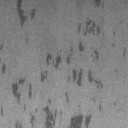red iron: (0, 20, 103, 128), (17, 0, 36, 44), (123, 47, 127, 58), (94, 0, 100, 6)
